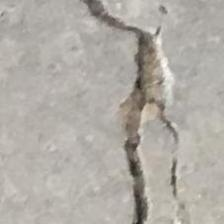Crack: (62, 0, 213, 224)
